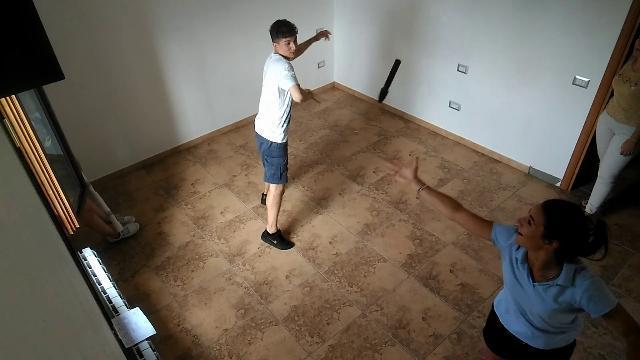knife: (303, 91, 320, 106)
non-violence: (378, 150, 622, 358), (583, 36, 640, 218), (50, 153, 142, 243)
violence: (250, 17, 334, 252)
weapon: (377, 56, 400, 105)
